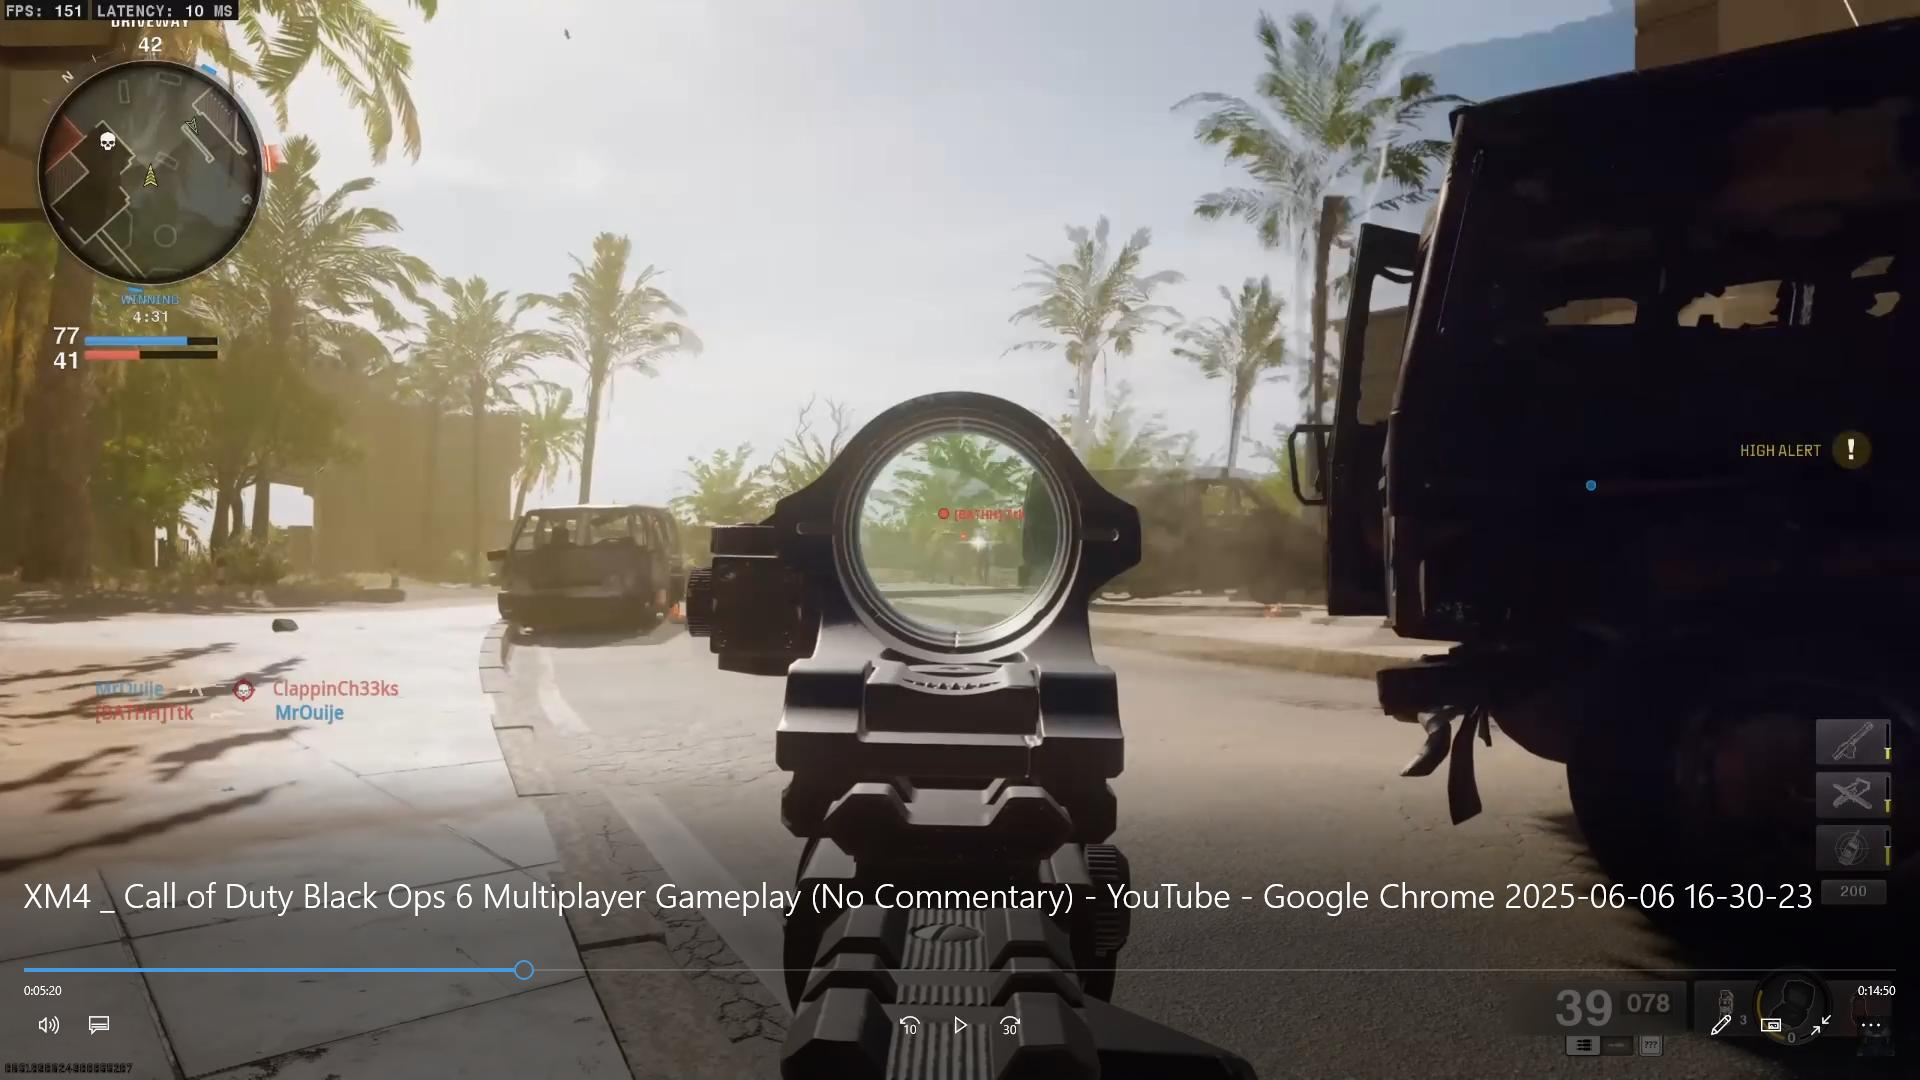Enemy: (939, 498, 1025, 601)
